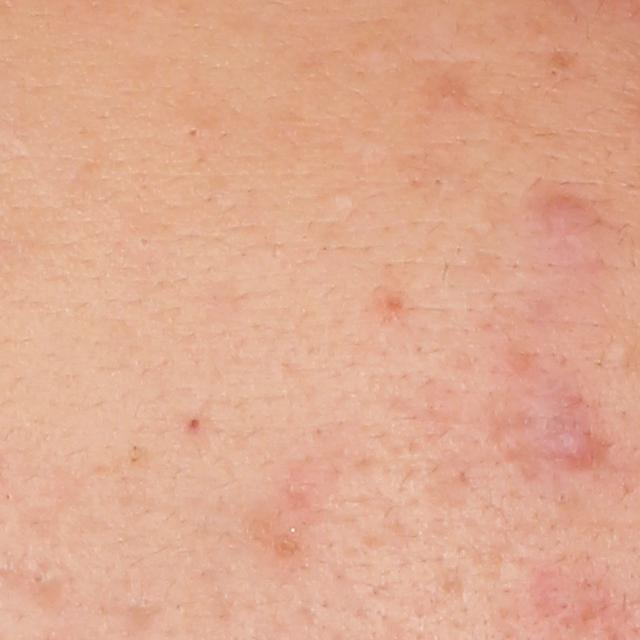comedo: (330, 188, 358, 214)
papule: (537, 416, 597, 467)
